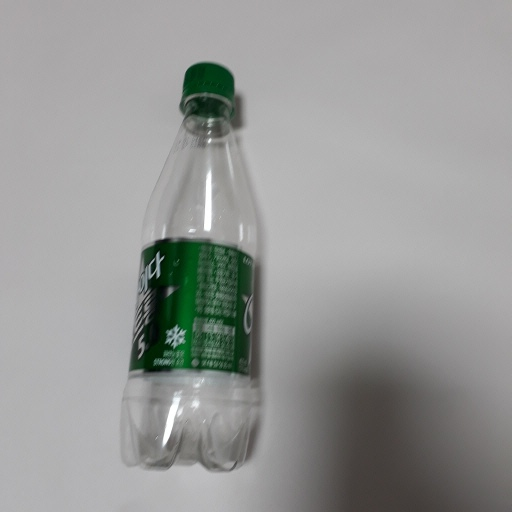Plastic_0: (124, 59, 259, 475)
